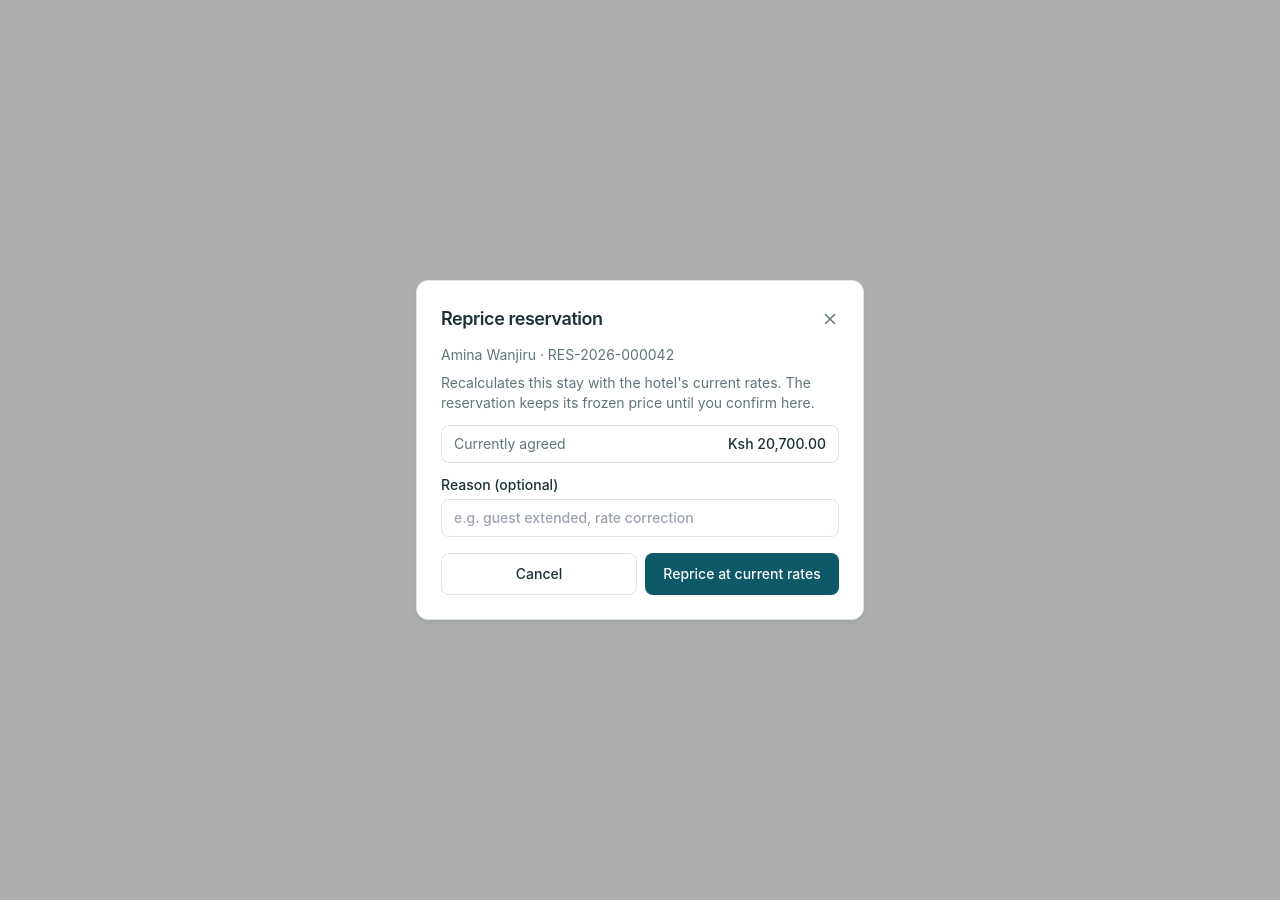
Scenario: RepriceDialog › does not reprice twice from the same confirmation
Click the button "Reprice at current rates" at coordinates (742, 574), box [645, 553, 839, 595]
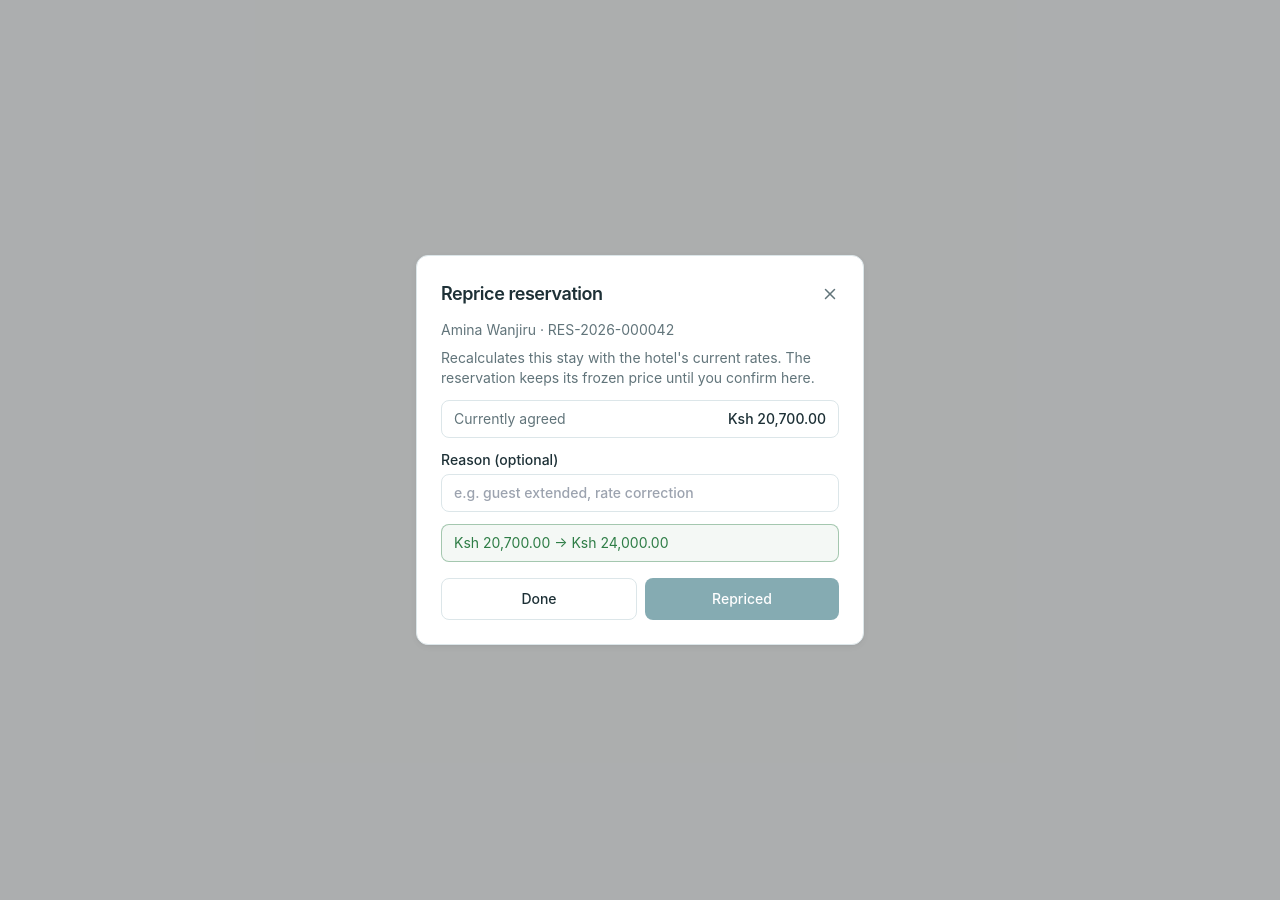
Expected: the text "Ksh 20,700.00 → Ksh 24,000.00" is shown, [454, 534, 668, 551]
Expected: the button "Repriced" is disabled, [645, 578, 839, 620]
